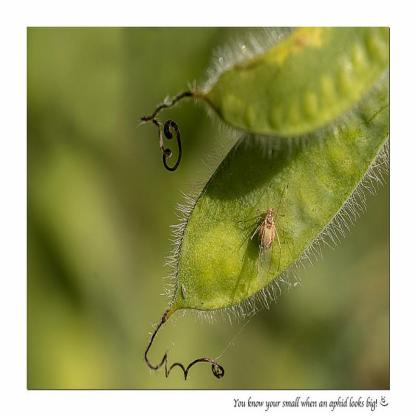aphid: (244, 193, 290, 273)
